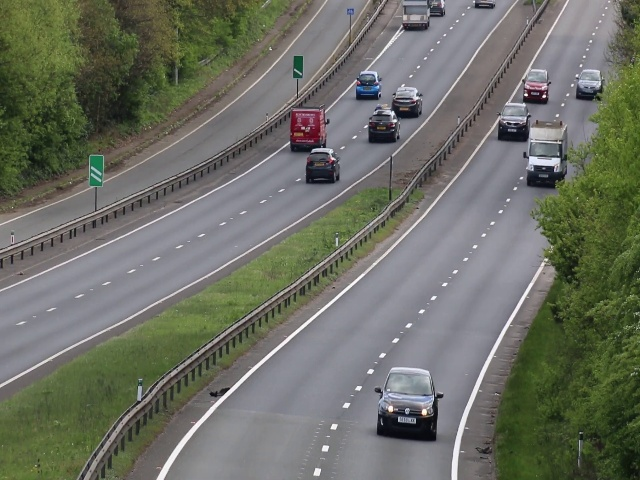car: (377, 363, 439, 444), (526, 122, 571, 184), (287, 107, 329, 149), (306, 147, 342, 186), (499, 100, 530, 141), (368, 106, 402, 143), (521, 66, 552, 105), (392, 82, 423, 119), (575, 65, 604, 101), (399, 1, 432, 31), (353, 69, 383, 99)
